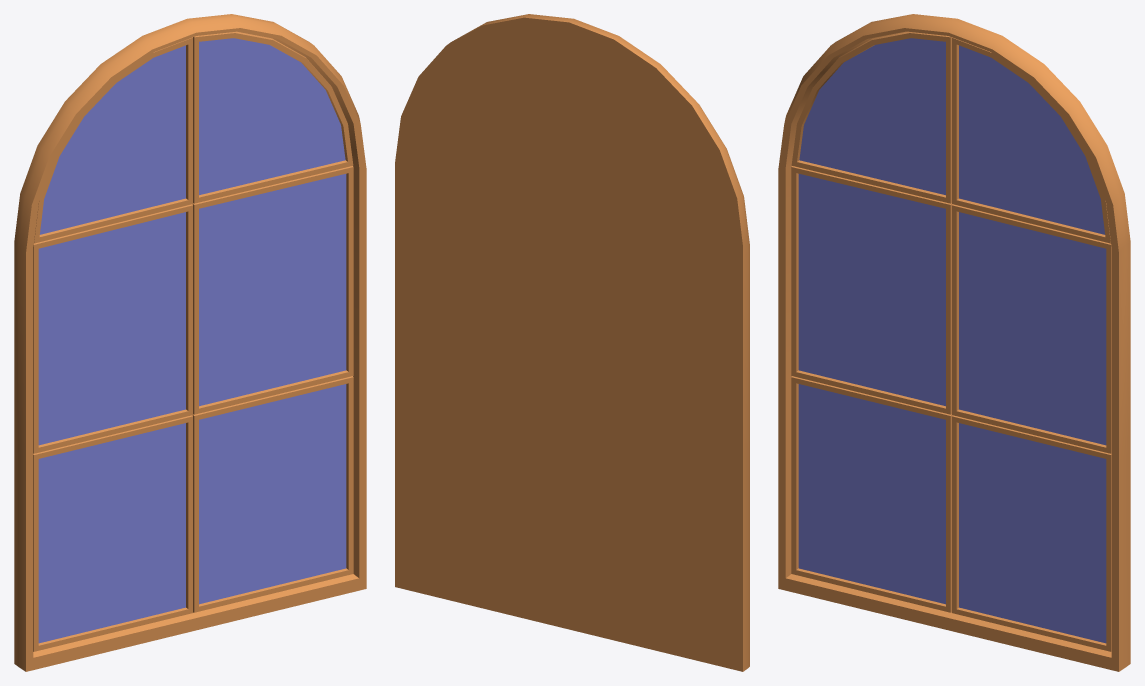
Rendered from SP_House06_Window01.fbx.
The picture shows the model from 3 angles, left to right: view 1: azimuth 30°, elevation 25°; view 2: azimuth 150°, elevation 25°; view 3: azimuth 330°, elevation 25°; orthographic projection.
Parts seen in each view (by area): view 1: SP_House06_Window01; view 2: SP_House06_Window01; view 3: SP_House06_Window01.
Boxes of the visible parts, left/top/right/bottom form: SP_House06_Window01: left=14, top=14, right=366, bottom=671; SP_House06_Window01: left=395, top=14, right=749, bottom=671; SP_House06_Window01: left=778, top=14, right=1130, bottom=671.
Bounding box in the file's own units: 0.6949 × 1.16 × 0.0322.
